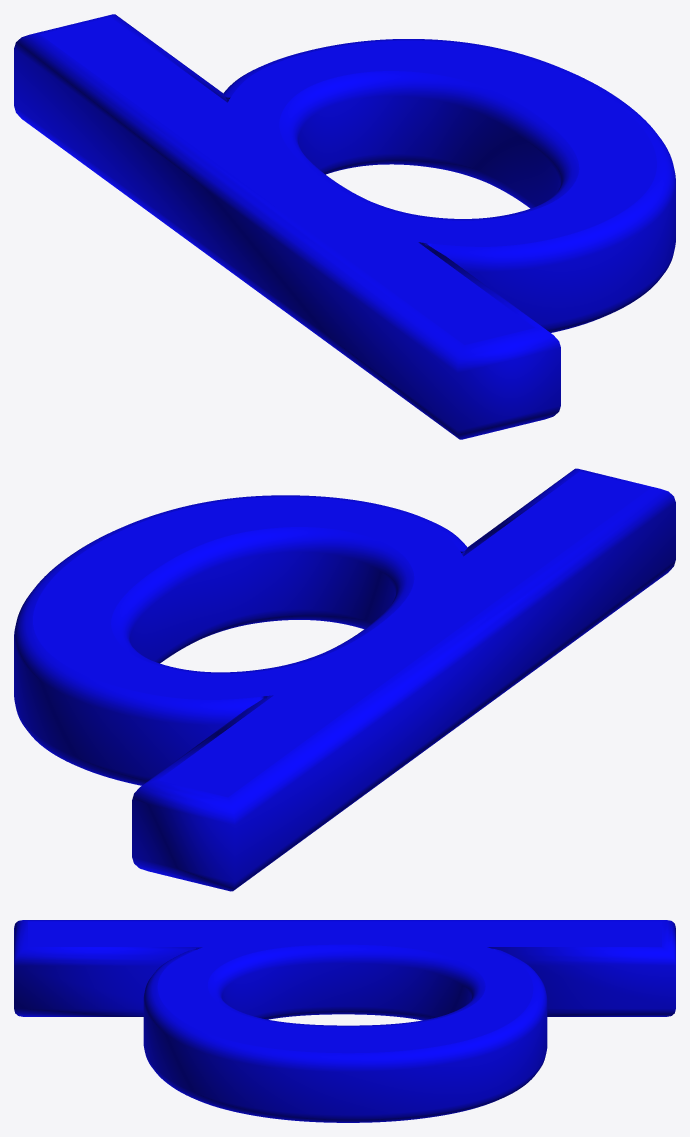
3 views of the same model, one above another, from view 1: azimuth 30°, elevation 25°; view 2: azimuth 150°, elevation 25°; view 3: azimuth 270°, elevation 25° (orthographic). The views are drawn at different scales.
Visible parts, largest first — view 1: 254; view 2: 254; view 3: 254.
Part boxes in pixels (x1=…): 254: x1=14, y1=14, x2=675, y2=439; 254: x1=14, y1=468, x2=675, y2=891; 254: x1=14, y1=920, x2=675, y2=1122.
Bounding box in the file's own units: 0.7212 × 0.16 × 1.4.
